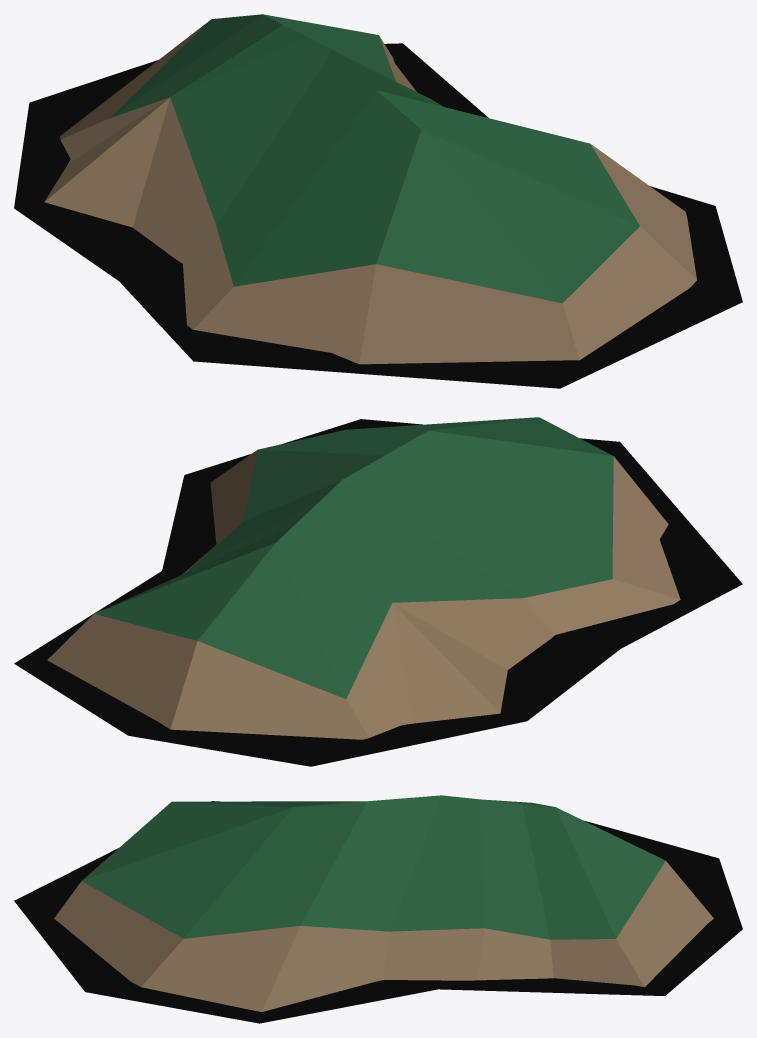
Rendered from Wzgorze6.fbx.
3 renders of one model, top to bottom at view 1: azimuth 30°, elevation 25°; view 2: azimuth 150°, elevation 25°; view 3: azimuth 270°, elevation 25°, orthographic. The views are drawn at different scales.
Visible parts, largest first — view 1: Wzgorze6; view 2: Wzgorze6; view 3: Wzgorze6.
Part boxes in pixels (box(x1,y1,x2,y2)): Wzgorze6: box(14, 14, 742, 388); Wzgorze6: box(14, 417, 742, 766); Wzgorze6: box(14, 795, 742, 1023).
Bounding box in the file's own units: 93187 × 23766 × 128943.
